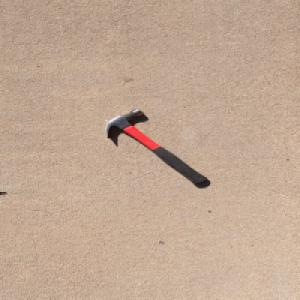Hammer: (104, 107, 209, 186)
